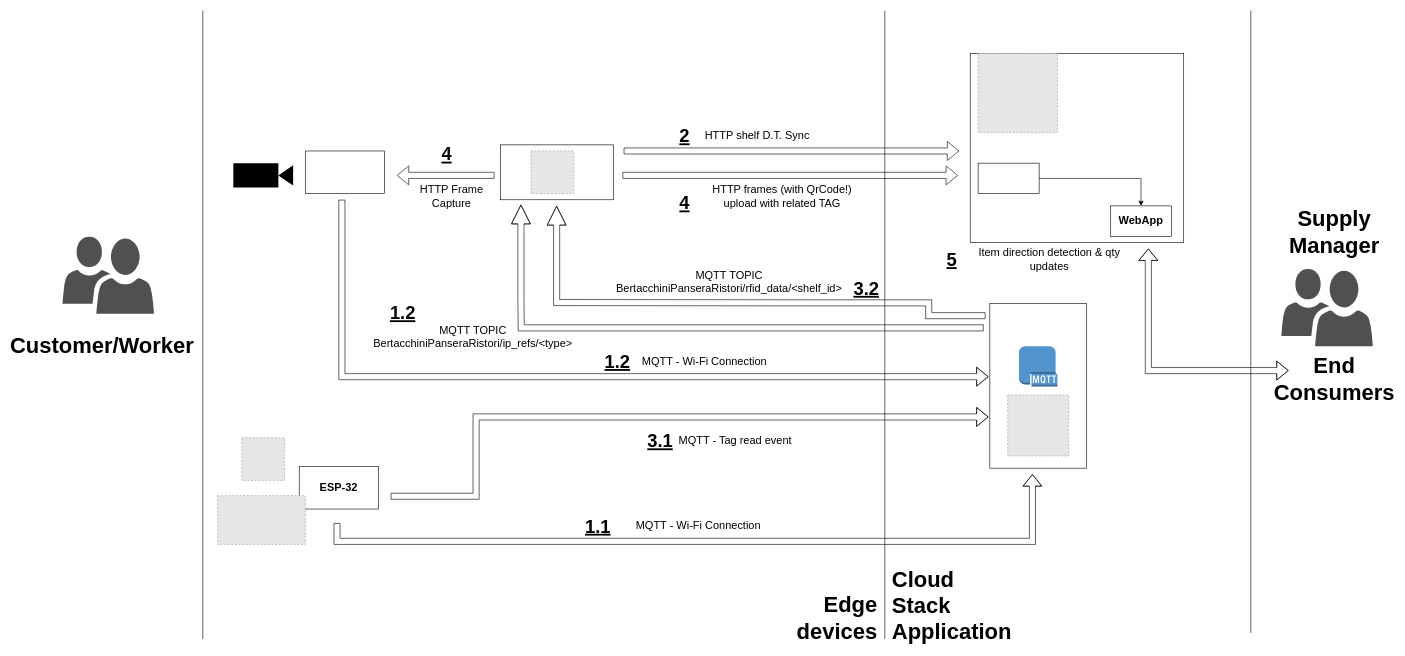
Image size: 1405x656. Some labels were removed from this diagram. Grey dashed boxes stand in for pictures. The shapes that lost their labels are listed below. From the top down, each one's centre as x and y in pixels, then its label:
point (345, 172): ESP-32 CAM
point (1008, 178): Frame Processor
